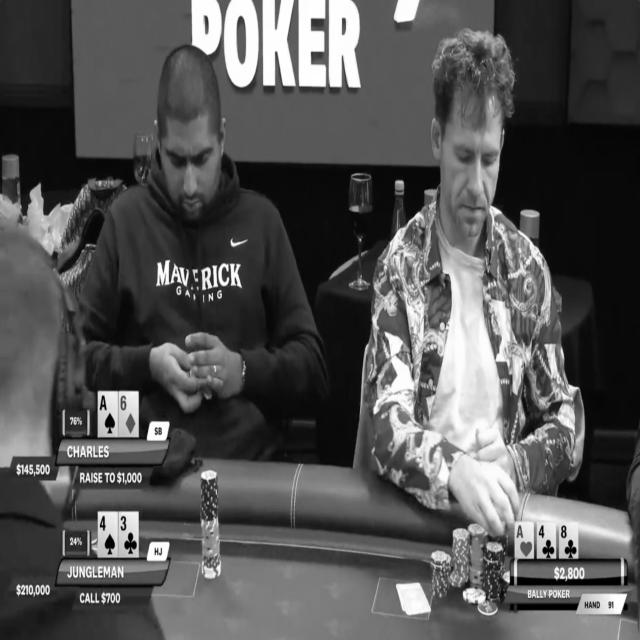3C: (118, 512, 139, 558)
4C: (537, 521, 556, 559)
4S: (98, 512, 118, 556)
6D: (118, 391, 139, 438)
8C: (560, 522, 578, 559)
AH: (515, 521, 534, 559)
AS: (98, 392, 119, 436)
